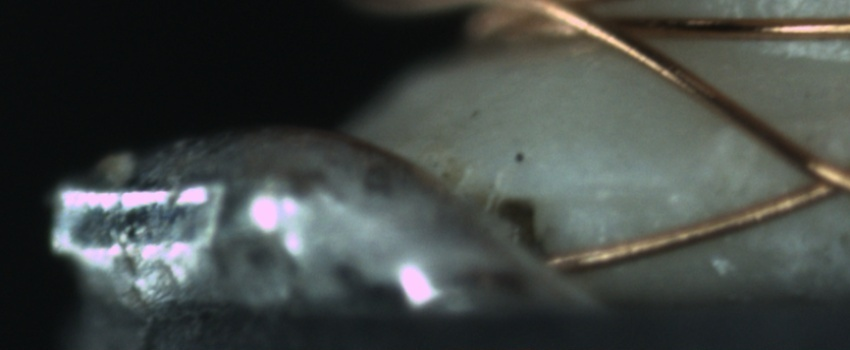CL: (769, 138, 846, 216)
DL: (562, 165, 690, 227)
